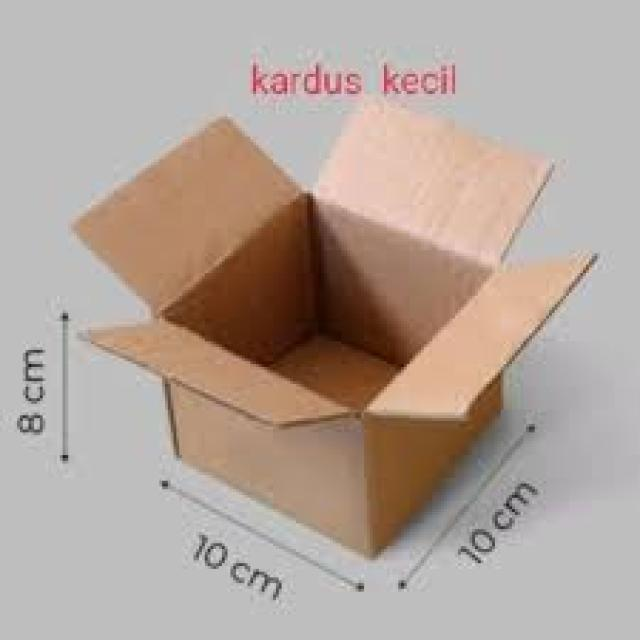Kardus kondisi bagus: (76, 98, 597, 558)
